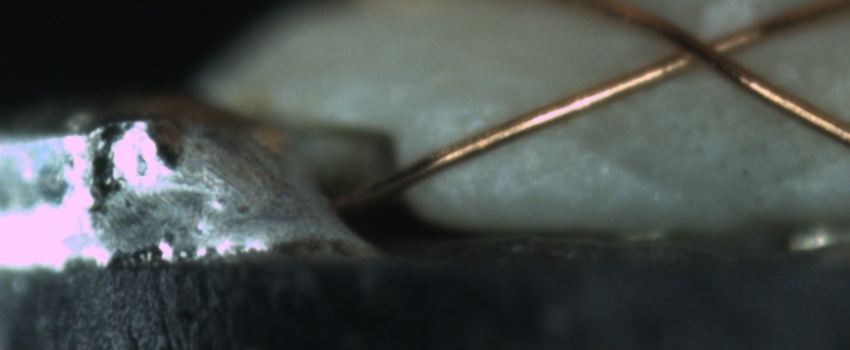CL: (652, 16, 749, 80)
